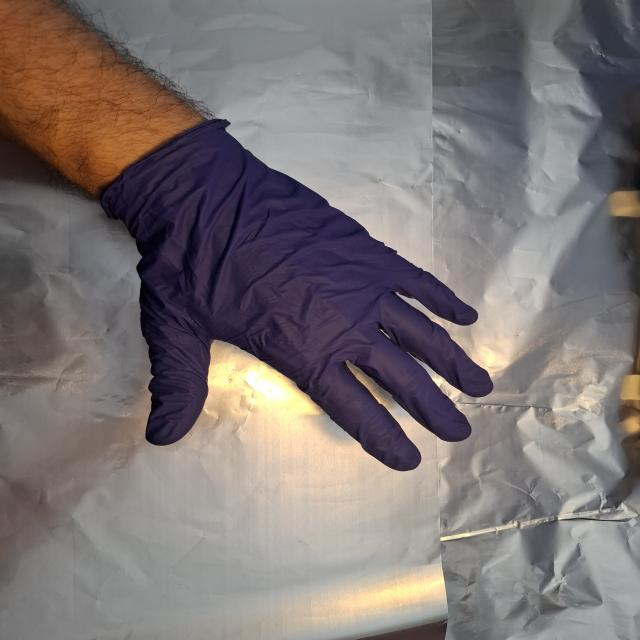glove_on: (97, 117, 500, 476)
